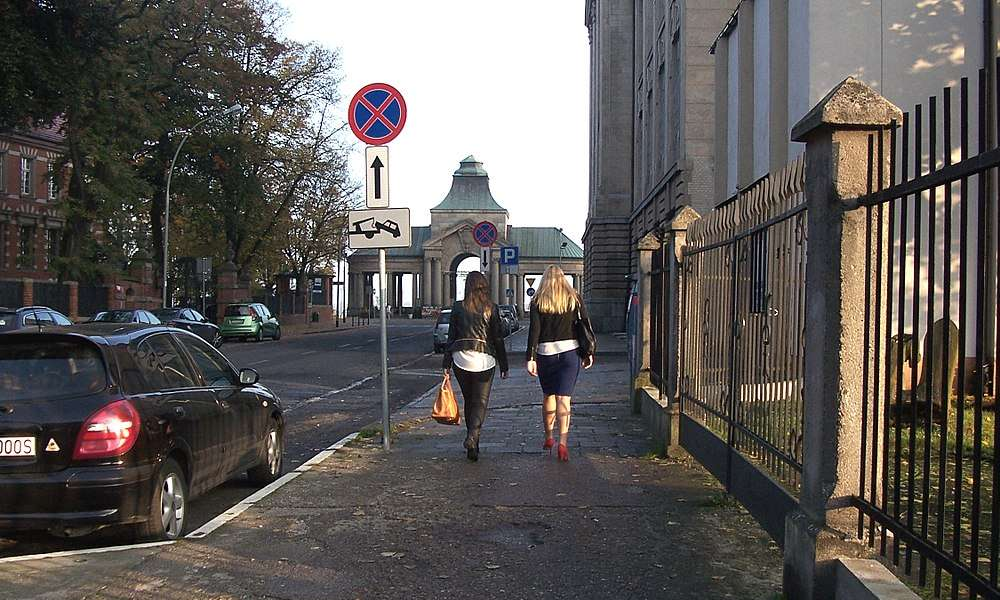no_stopping_sign: (348, 84, 406, 144), (472, 221, 497, 246)
